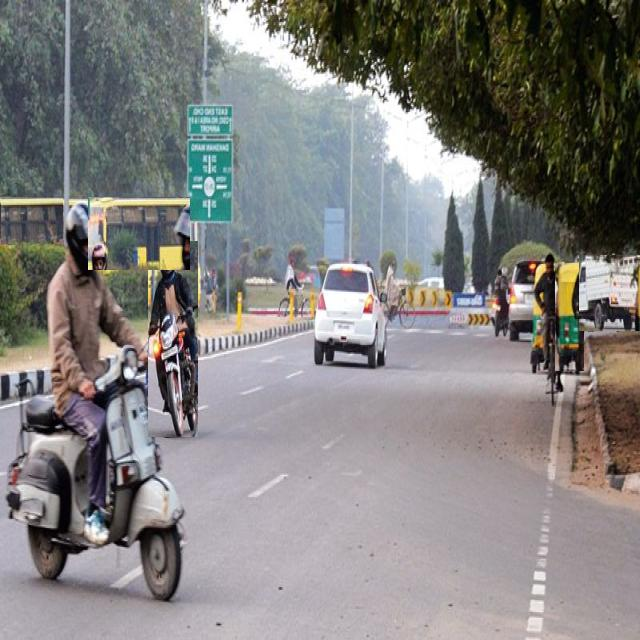autorickshaw: (555, 263, 584, 371)
bus: (88, 198, 190, 270), (1, 198, 62, 244)
car: (315, 263, 386, 368), (510, 258, 539, 341)
motorcycle: (6, 203, 184, 599), (148, 242, 198, 437)
truck: (579, 256, 640, 331)
